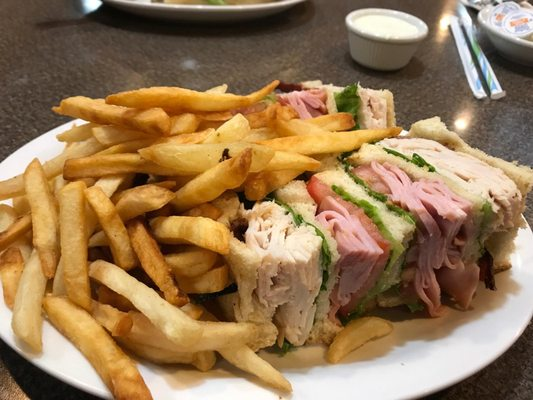soup: (307, 136, 530, 322)
sushi: (345, 8, 429, 72), (466, 0, 533, 68)
